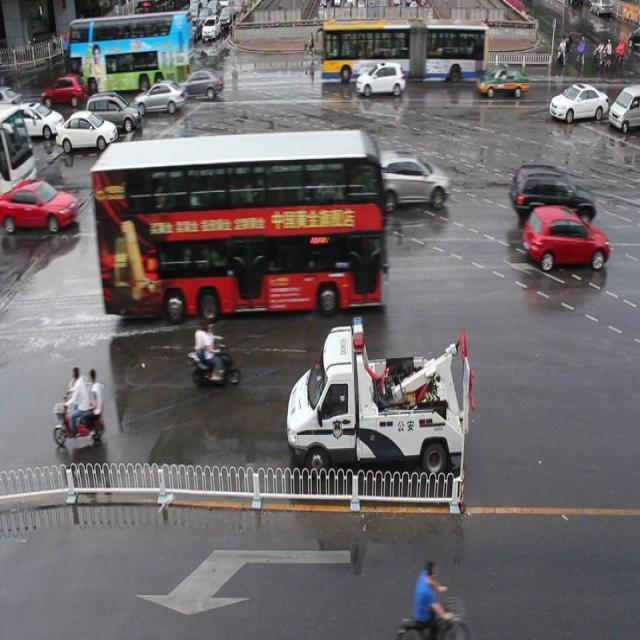car: (521, 202, 608, 272), (508, 162, 594, 224), (371, 148, 448, 209), (548, 80, 607, 126), (476, 64, 527, 100), (355, 62, 404, 98), (180, 67, 224, 98)
van: (94, 131, 380, 308), (320, 20, 488, 81)
